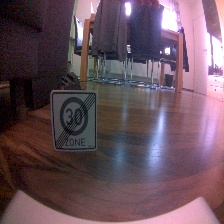dreisiger_zone_ende: (47, 89, 99, 154)
